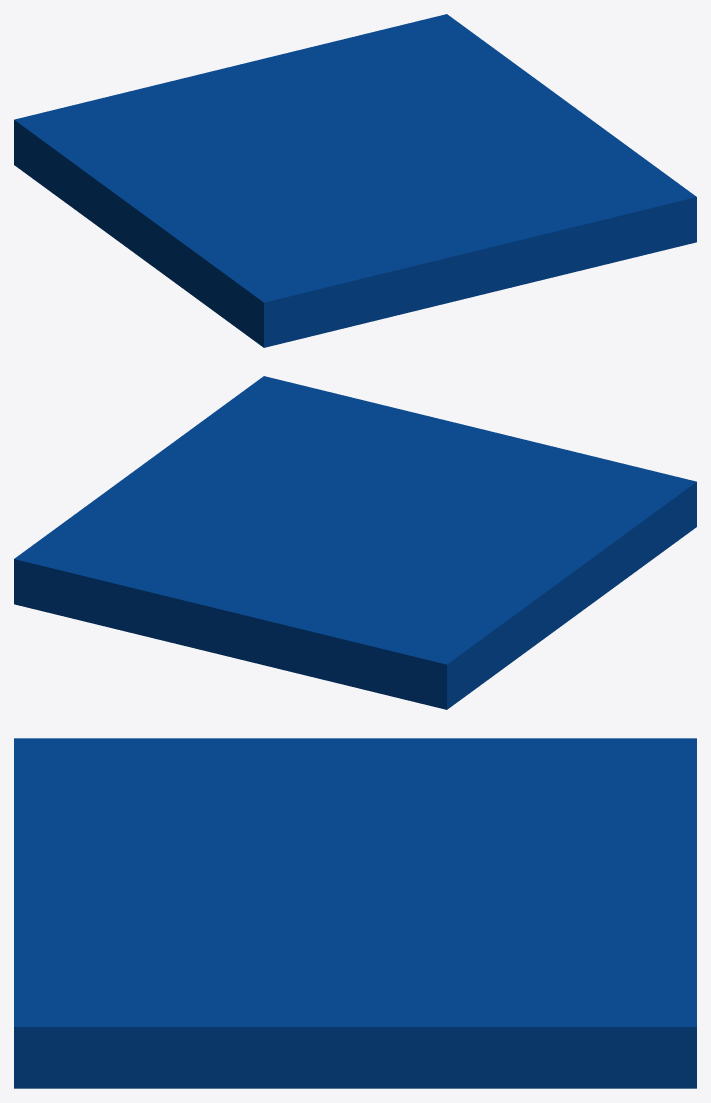
The model's file is TileWater_05.fbx.
3 renders of one model, top to bottom at view 1: azimuth 30°, elevation 25°; view 2: azimuth 150°, elevation 25°; view 3: azimuth 270°, elevation 25°, orthographic. The views are drawn at different scales.
Visible parts, largest first — view 1: TileWater_05; view 2: TileWater_05; view 3: TileWater_05.
Part boxes in pixels (left/top/right/bottom): TileWater_05: left=14, top=14, right=696, bottom=347; TileWater_05: left=14, top=376, right=696, bottom=709; TileWater_05: left=14, top=738, right=696, bottom=1088.
Bounding box in the file's own units: 500 × 50 × 500.
